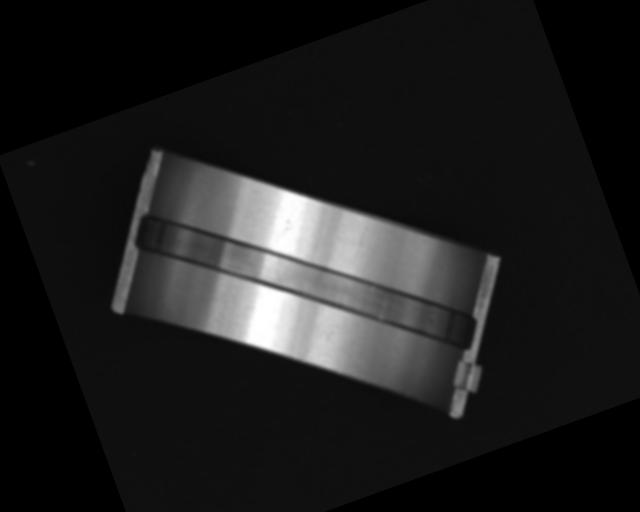gap: (126, 120, 483, 442)
nick: (345, 224, 376, 260)
